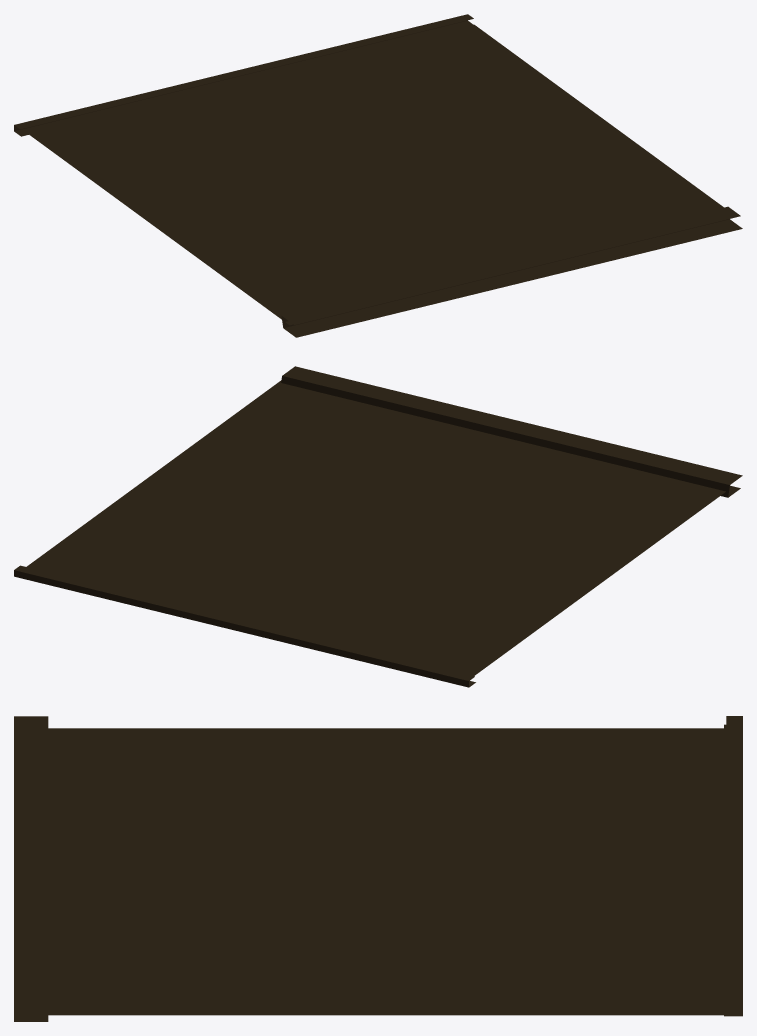
File: floor_flat 1.FBX
3 renders of one model, top to bottom at view 1: azimuth 30°, elevation 25°; view 2: azimuth 150°, elevation 25°; view 3: azimuth 270°, elevation 25°, orthographic. The views are drawn at different scales.
Parts seen in each view (by area): view 1: floor_flat; view 2: floor_flat; view 3: floor_flat.
Part boxes in pixels (bbox=[...]): floor_flat: bbox=[14, 14, 742, 337]; floor_flat: bbox=[14, 366, 742, 687]; floor_flat: bbox=[14, 716, 742, 1021].
Size of the model in its own units: 100 by 2.76 by 106.
